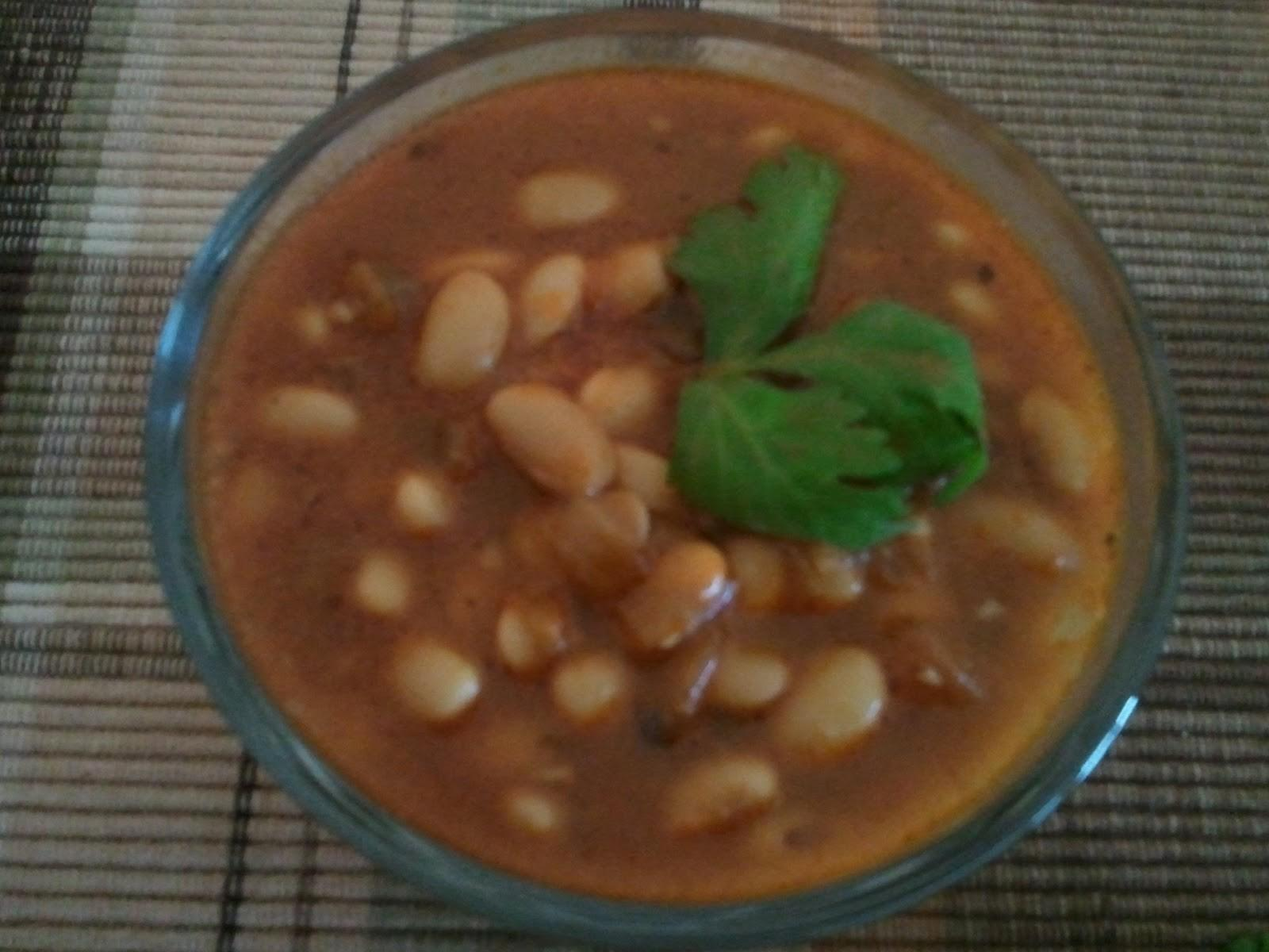RajmaCurry: (203, 64, 1129, 892)
